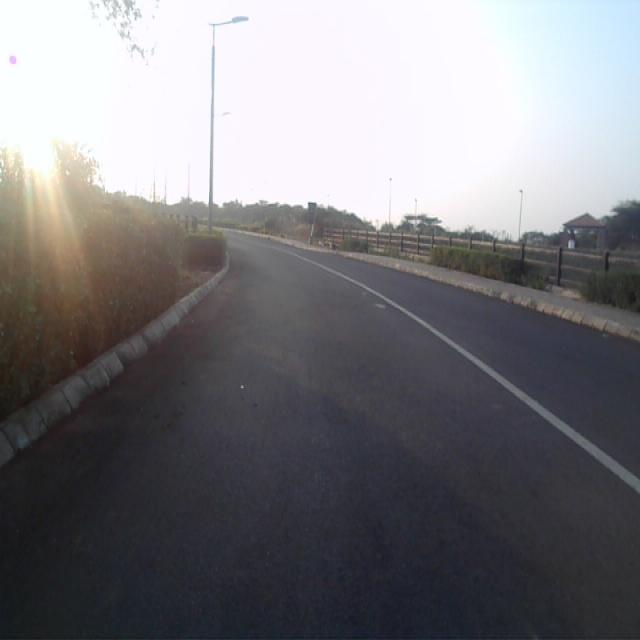lane: (0, 247, 640, 640)
